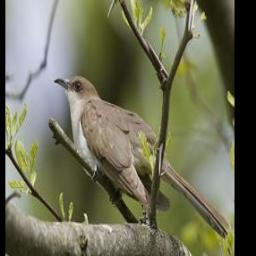Cuckoo: (56, 73, 232, 238)
